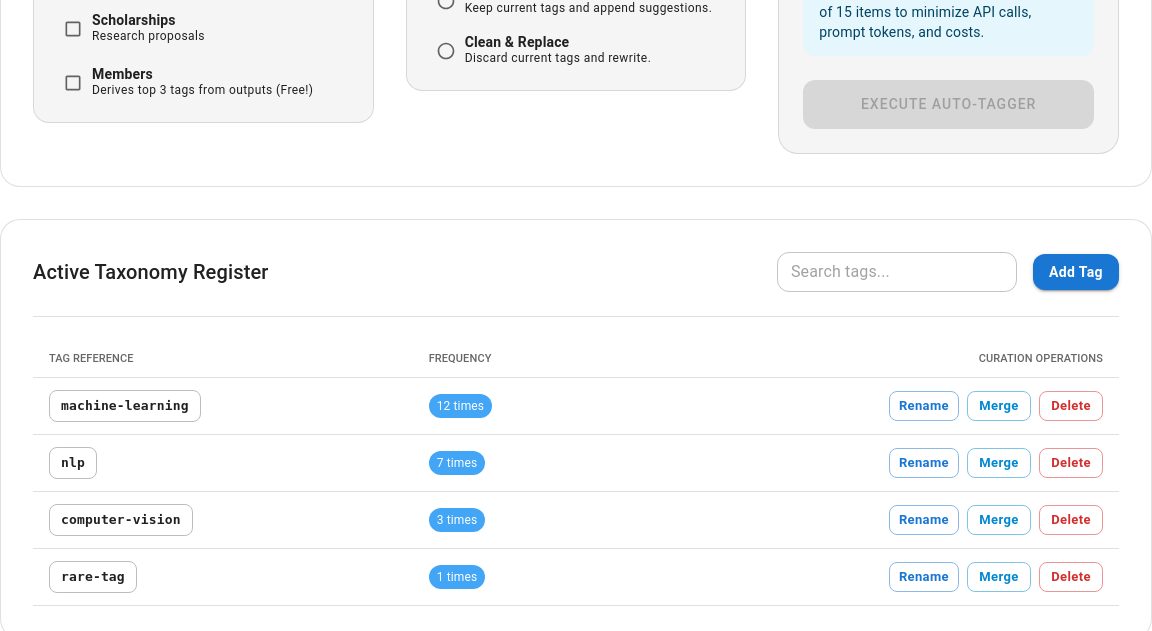
Test: TagsCurationClient › adds a new tag to the list after successful submission
(page scrolled)
Step 1. Click the button "Add Tag" → [1076, 272], box [1033,254,1119,290]
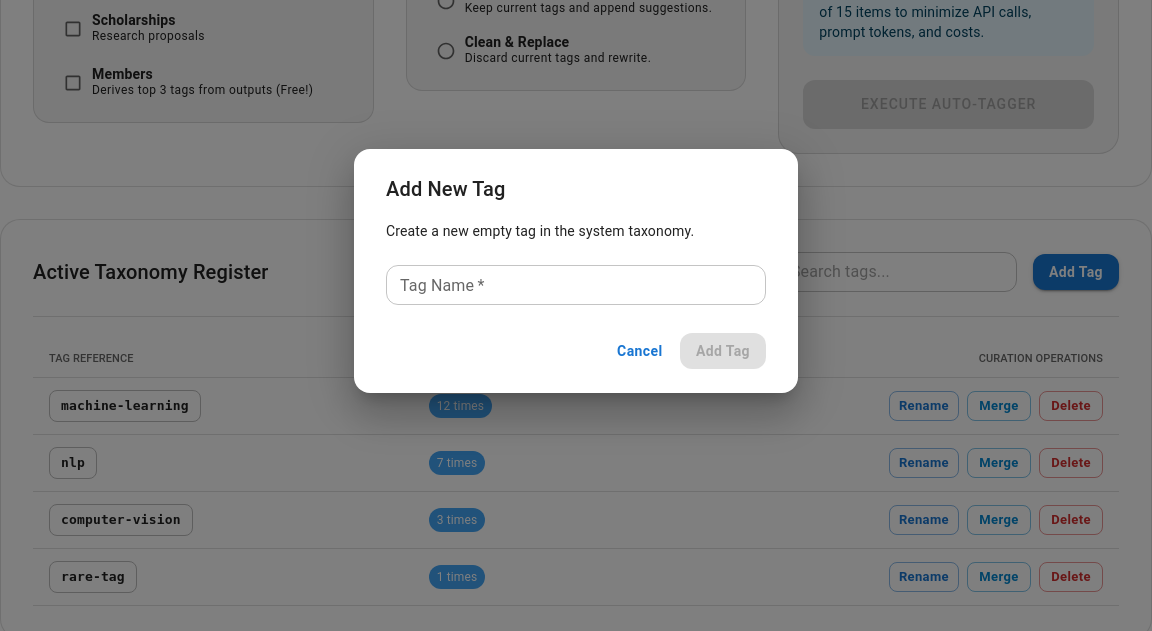
Step 2. Type "robotics" into the field → [576, 285], box [386,265,766,305]
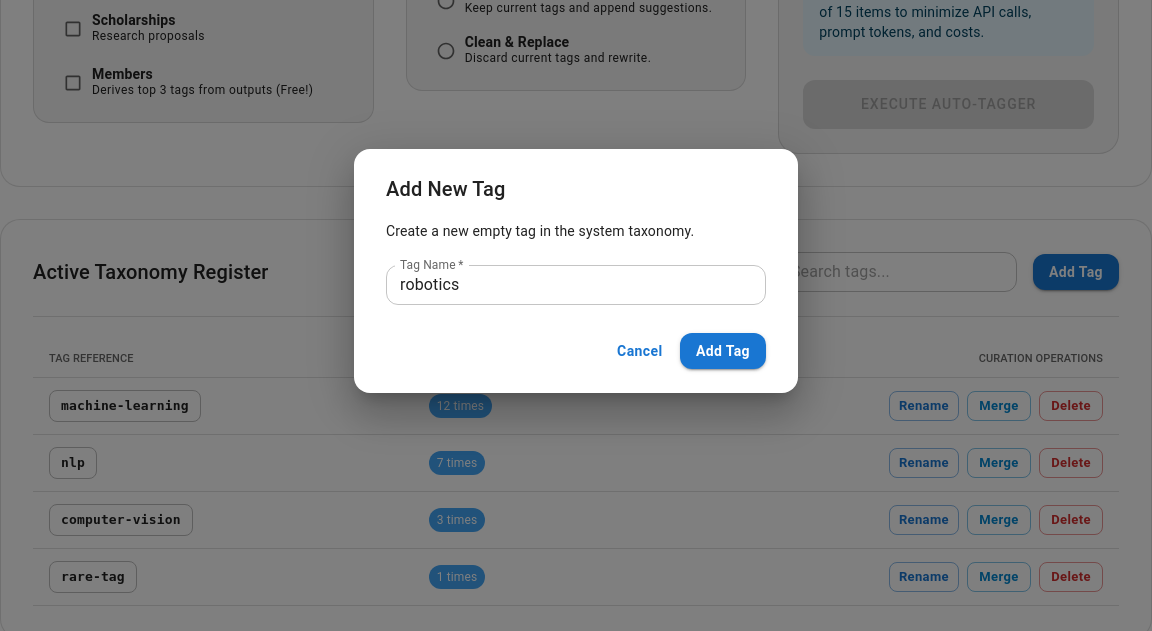
Step 3. Click the button "Add Tag" → [723, 351], box [680,333,766,369]
(page scrolled)
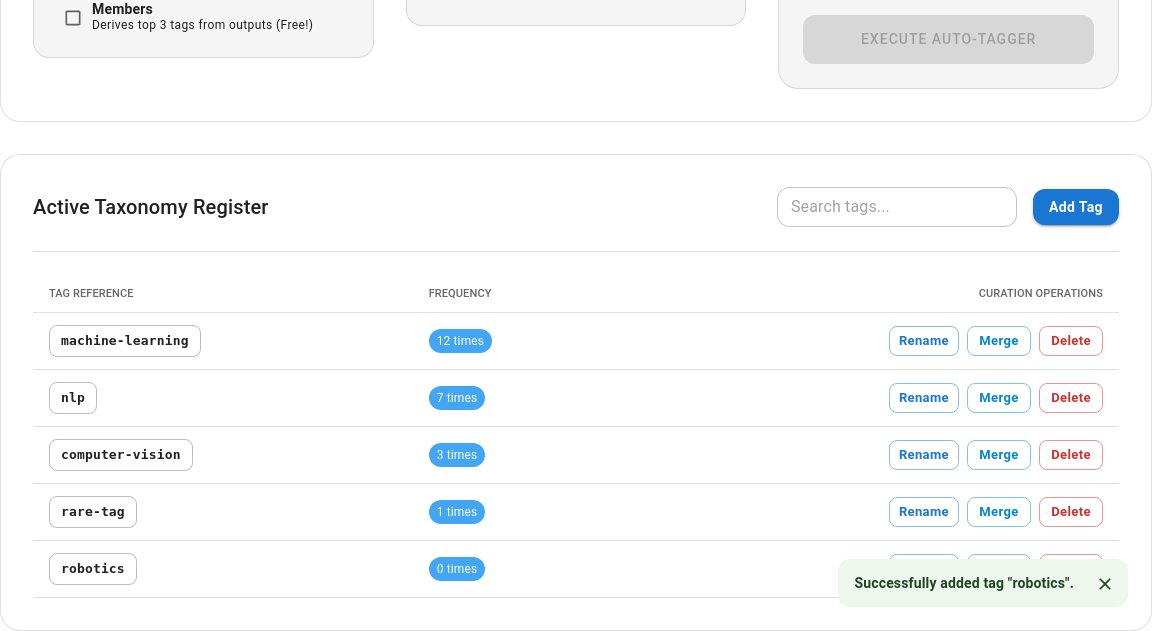
Result: the text "robotics" is shown at [61,561,125,576]
